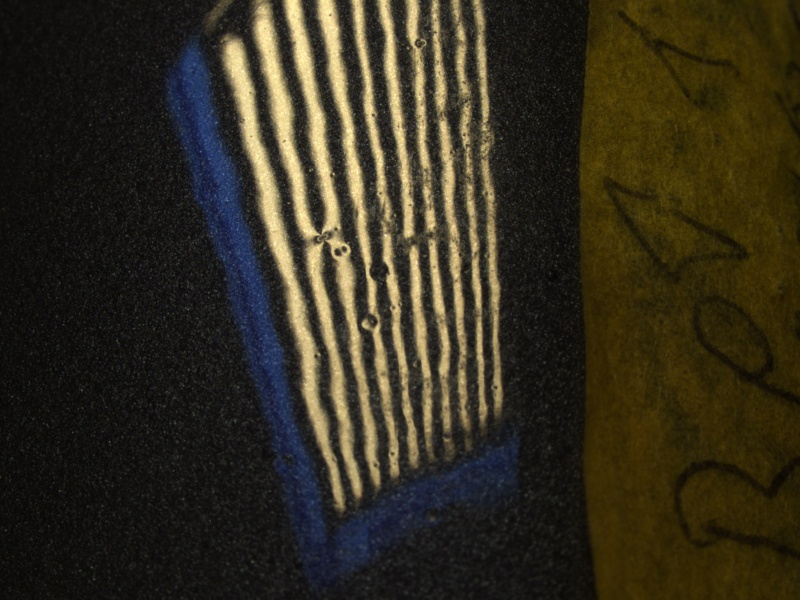bad: (307, 221, 357, 265), (352, 305, 385, 338), (406, 33, 434, 53)
